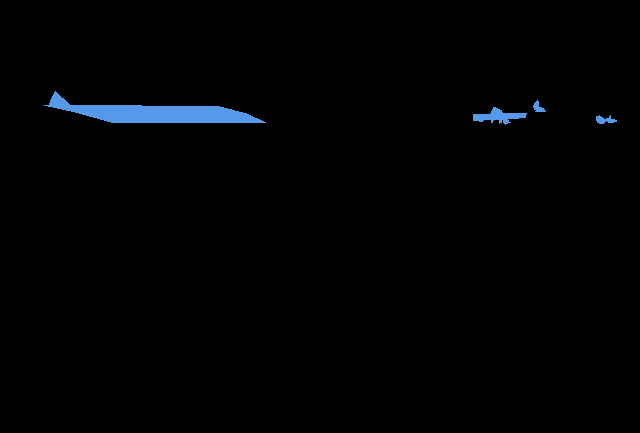Airplane: (44, 91, 265, 122), (473, 107, 526, 125), (533, 100, 546, 112), (596, 115, 607, 124), (604, 115, 616, 123)
